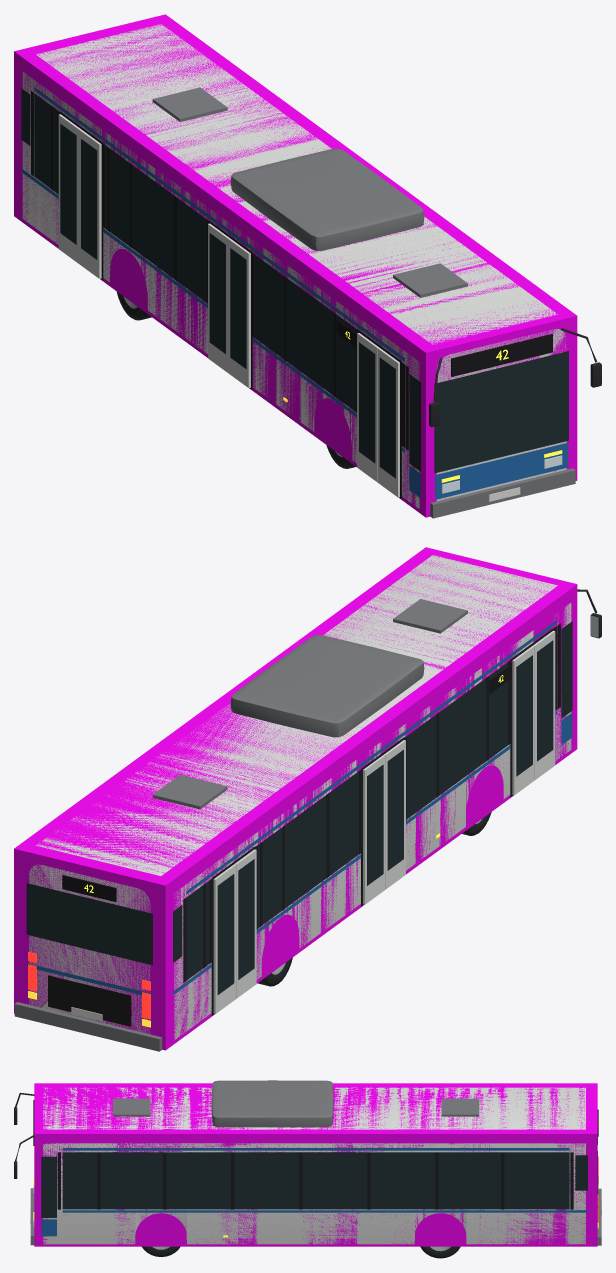
Rendered from PT_Bus_City12.fbx.
The picture shows the model from 3 angles, top to bottom: view 1: azimuth 30°, elevation 25°; view 2: azimuth 150°, elevation 25°; view 3: azimuth 270°, elevation 25°; orthographic projection. The views are drawn at different scales.
Parts seen in each view (by area): view 1: COL_Body, Body, Glass_Side, Glass_Windscreen, Roof_AC, Pillar_R, Livery_Face, Roof_Hatches, Bumper_Front, Display_Front, Door_1_A_Glass, Door_2_A_Glass (+12 smaller); view 2: COL_Body, Body, Glass_Side, Roof_AC, Glass_Rear, Pillar_R, Roof_Hatches, EngineGrille, Bumper_Rear, Door_3_B_Glass, Door_1_A_Glass, Door_2_A_Glass (+13 smaller); view 3: COL_Body, Body, Glass_Side, Roof_AC, Pillar_L, Livery_Stripe, Livery_Roofline, Roof_Hatches, Glass_Windscreen, Glass_Rear, Wheel_RL_Tyre, Livery_Face (+2 smaller).
Part boxes in pixels (box(x1,y1,x2,y2)): COL_Body: box(14, 14, 577, 517); Body: box(22, 24, 566, 508); Glass_Side: box(34, 93, 355, 411); Glass_Windscreen: box(409, 351, 568, 473); Roof_AC: box(230, 148, 424, 250); Pillar_R: box(31, 91, 408, 450); Livery_Face: box(409, 442, 568, 499); Roof_Hatches: box(152, 87, 467, 297); Bumper_Front: box(430, 468, 575, 518); Display_Front: box(451, 334, 552, 376); Door_1_A_Glass: box(379, 357, 395, 478); Door_2_A_Glass: box(230, 248, 246, 369); COL_Body: box(14, 547, 577, 1050); Body: box(29, 555, 571, 1039); Glass_Side: box(186, 662, 508, 980); Roof_AC: box(230, 635, 424, 737); Glass_Rear: box(26, 883, 182, 965); Pillar_R: box(183, 623, 560, 982); Roof_Hatches: box(152, 599, 467, 809); EngineGrille: box(48, 975, 131, 1026); Bumper_Rear: box(14, 1002, 162, 1051); Door_3_B_Glass: box(217, 874, 234, 994); Door_1_A_Glass: box(537, 640, 553, 761); Door_2_A_Glass: box(387, 749, 403, 870); COL_Body: box(34, 1083, 597, 1246); Body: box(43, 1087, 585, 1244); Glass_Side: box(62, 1152, 569, 1209); Roof_AC: box(211, 1080, 333, 1127); Pillar_L: box(57, 1152, 573, 1209); Livery_Stripe: box(62, 1206, 597, 1212); Livery_Roofline: box(62, 1148, 569, 1150); Roof_Hatches: box(113, 1098, 479, 1116); Glass_Windscreen: box(41, 1156, 56, 1217); Glass_Rear: box(575, 1137, 597, 1190); Wheel_RL_Tyre: box(420, 1246, 460, 1258); Livery_Face: box(41, 1219, 56, 1236).
Size of the model in its own units: 2.88 by 3.19 by 12.52.
